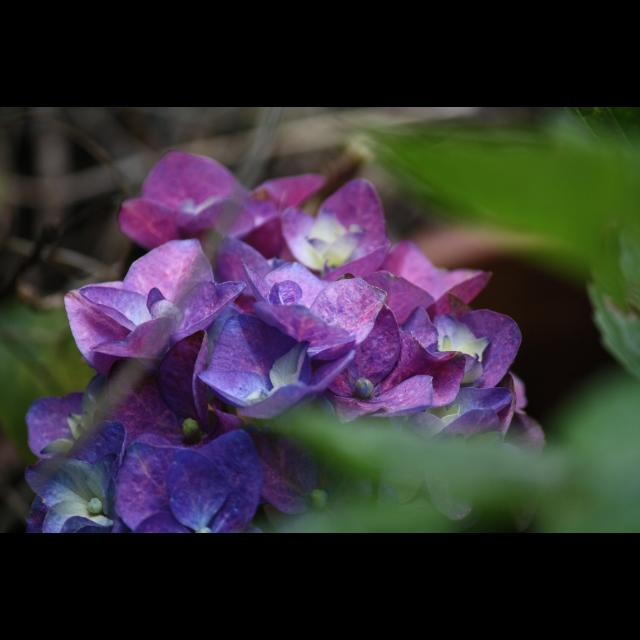Flower: (21, 147, 546, 533)
